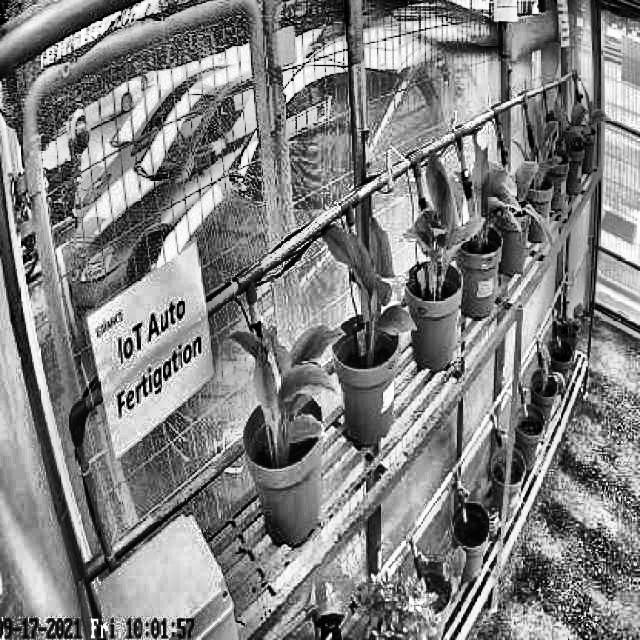plants: (229, 322, 345, 449), (319, 218, 416, 344), (404, 152, 484, 282), (472, 128, 522, 247), (528, 103, 560, 191), (584, 90, 608, 136)
